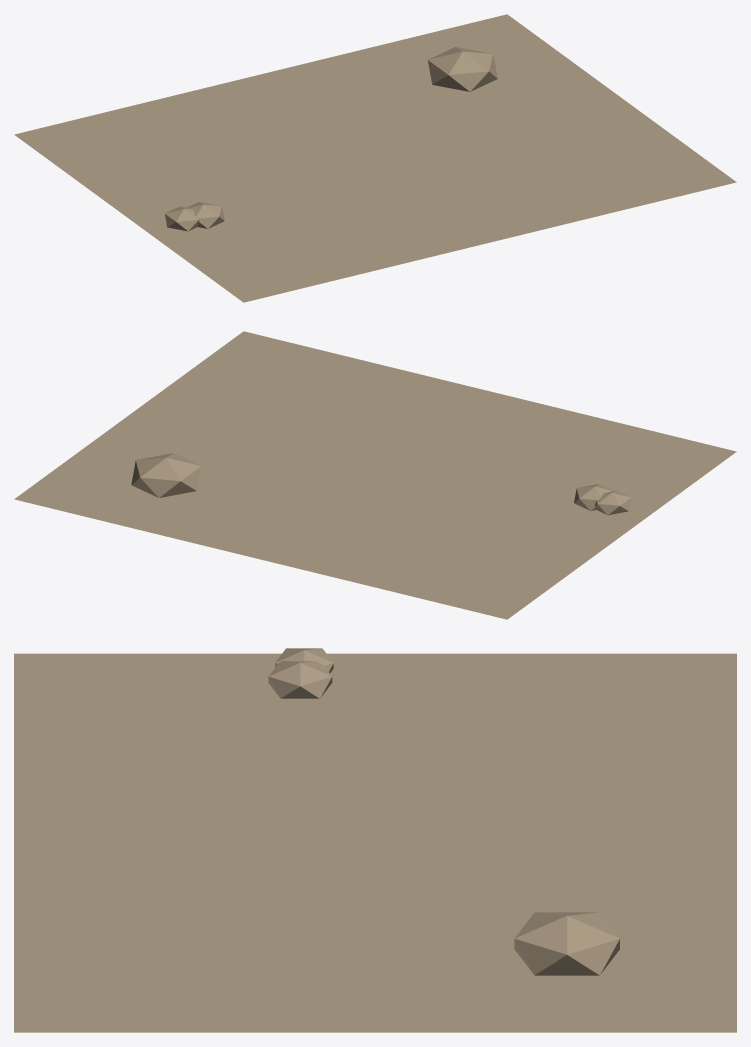
The model's file is road_dirt_end.glb.
3 renders of one model, top to bottom at view 1: azimuth 30°, elevation 25°; view 2: azimuth 150°, elevation 25°; view 3: azimuth 270°, elevation 25°, orthographic. The views are drawn at different scales.
Visible parts, largest first — view 1: s; view 2: s; view 3: s.
Part boxes in pixels (x1=…): s: x1=14, y1=14, x2=736, y2=302; s: x1=14, y1=331, x2=736, y2=619; s: x1=14, y1=648, x2=736, y2=1032.
Bounding box in the file's own units: 1.24 × 0.0859 × 1.
